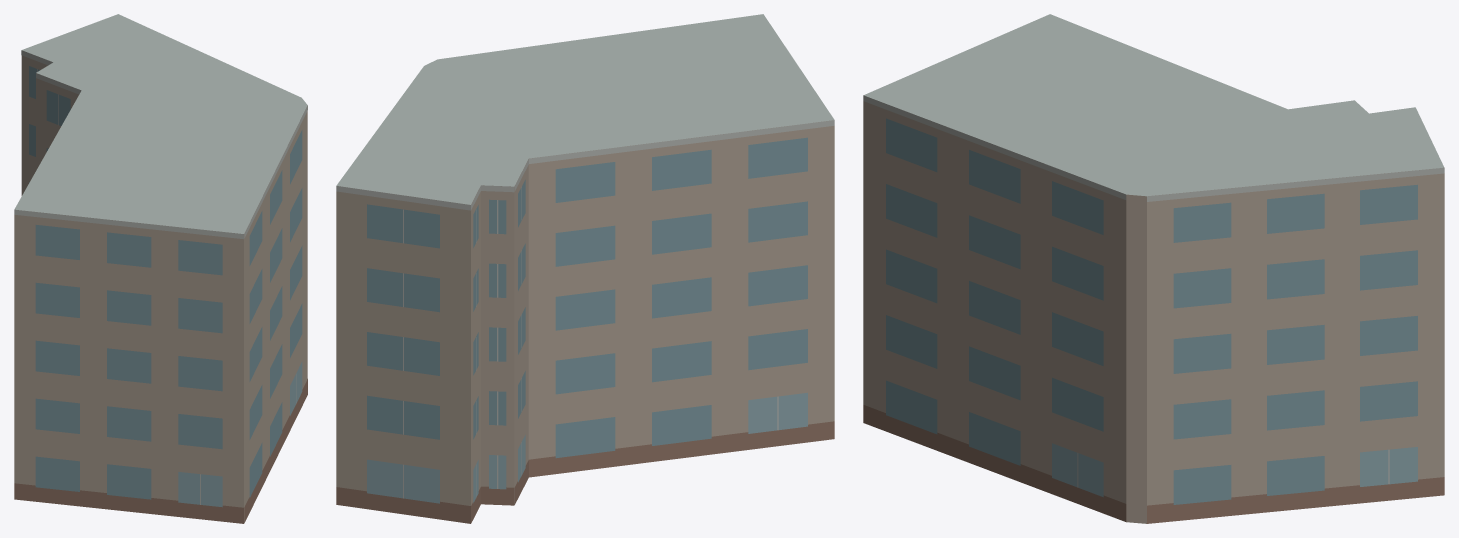
File: survey-upis-32771927.glb
3 views of the same model, side by side, from view 1: azimuth 30°, elevation 25°; view 2: azimuth 150°, elevation 25°; view 3: azimuth 270°, elevation 25° (orthographic). The views are drawn at different scales.
Parts seen in each view (by area): view 1: survey-upis-32771927.tmp; view 2: survey-upis-32771927.tmp; view 3: survey-upis-32771927.tmp.
Part boxes in pixels (left/top/right/bottom): survey-upis-32771927.tmp: left=14, top=14, right=307, bottom=523; survey-upis-32771927.tmp: left=336, top=14, right=834, bottom=523; survey-upis-32771927.tmp: left=863, top=14, right=1444, bottom=523.
Bounding box in the file's own units: 16.47 × 13.8 × 22.19.
